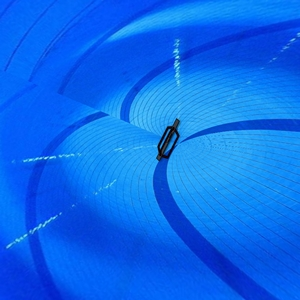submarine: (150, 118, 188, 166)
